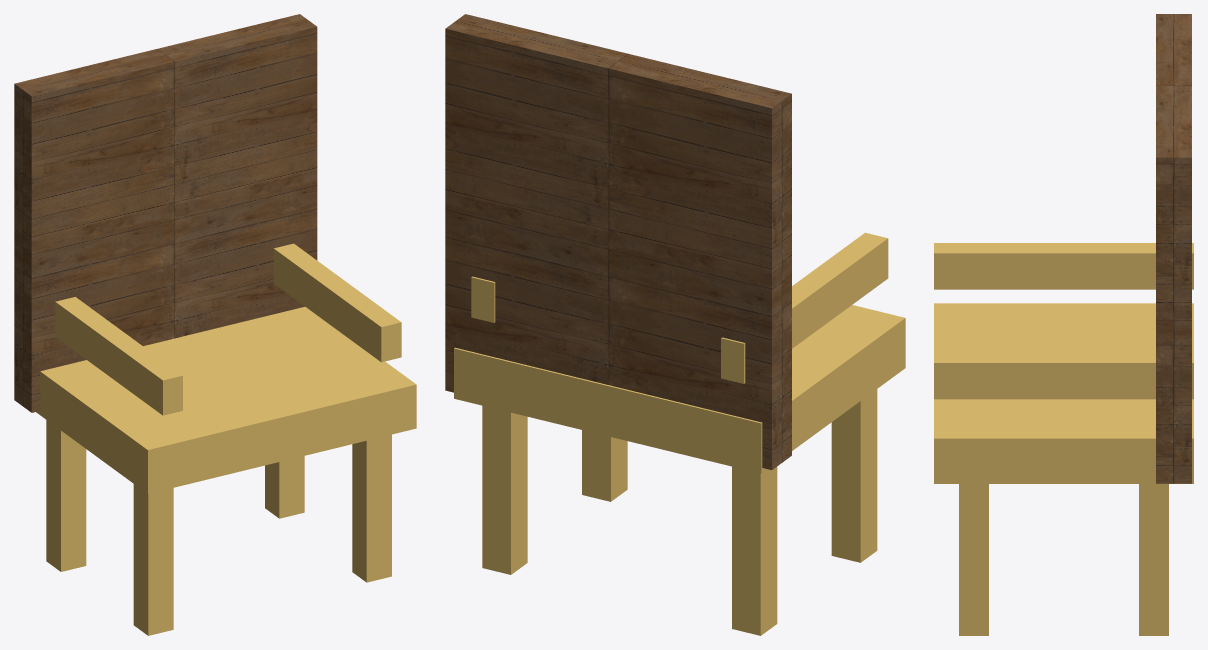
File: trono.glb
The picture shows the model from 3 angles, left to right: view 1: azimuth 30°, elevation 25°; view 2: azimuth 150°, elevation 25°; view 3: azimuth 270°, elevation 25°; orthographic projection. The views are drawn at different scales.
Visible parts, largest first — view 1: Encosto, Assento, Apoio de braço.001, Apoio de braço, Pé.001, Pé.003, Pé, Pé.002; view 2: Encosto, Assento, Pé, Pé.002, Pé.001, Apoio de braço, Pé.003, Apoio de braço.001; view 3: Assento, Encosto, Apoio de braço, Apoio de braço.001, Pé.002, Pé.003.
Part boxes in pixels (left/top/right/bottom): Encosto: left=14, top=14, right=317, bottom=412; Assento: left=36, top=307, right=416, bottom=493; Apoio de braço.001: left=273, top=243, right=401, bottom=362; Apoio de braço: left=55, top=297, right=182, bottom=415; Pé.001: left=133, top=484, right=173, bottom=635; Pé.003: left=352, top=434, right=391, bottom=582; Pé: left=46, top=420, right=86, bottom=571; Pé.002: left=265, top=456, right=304, bottom=518; Encosto: left=445, top=14, right=791, bottom=469; Assento: left=454, top=305, right=905, bottom=473; Pé: left=732, top=466, right=777, bottom=635; Pé.002: left=482, top=405, right=527, bottom=574; Pé.001: left=831, top=389, right=877, bottom=562; Apoio de braço: left=721, top=232, right=888, bottom=383; Pé.003: left=582, top=430, right=627, bottom=501; Apoio de braço.001: left=471, top=276, right=495, bottom=322; Assento: left=934, top=303, right=1193, bottom=483; Encosto: left=1156, top=14, right=1191, bottom=483; Apoio de braço: left=934, top=243, right=1193, bottom=289; Apoio de braço.001: left=934, top=353, right=1193, bottom=399; Pé.002: left=1139, top=484, right=1168, bottom=635; Pé.003: left=959, top=484, right=988, bottom=635.
Size of the model in its own units: 1.7 by 2.7 by 1.3.
2 materials, 1 textured.
